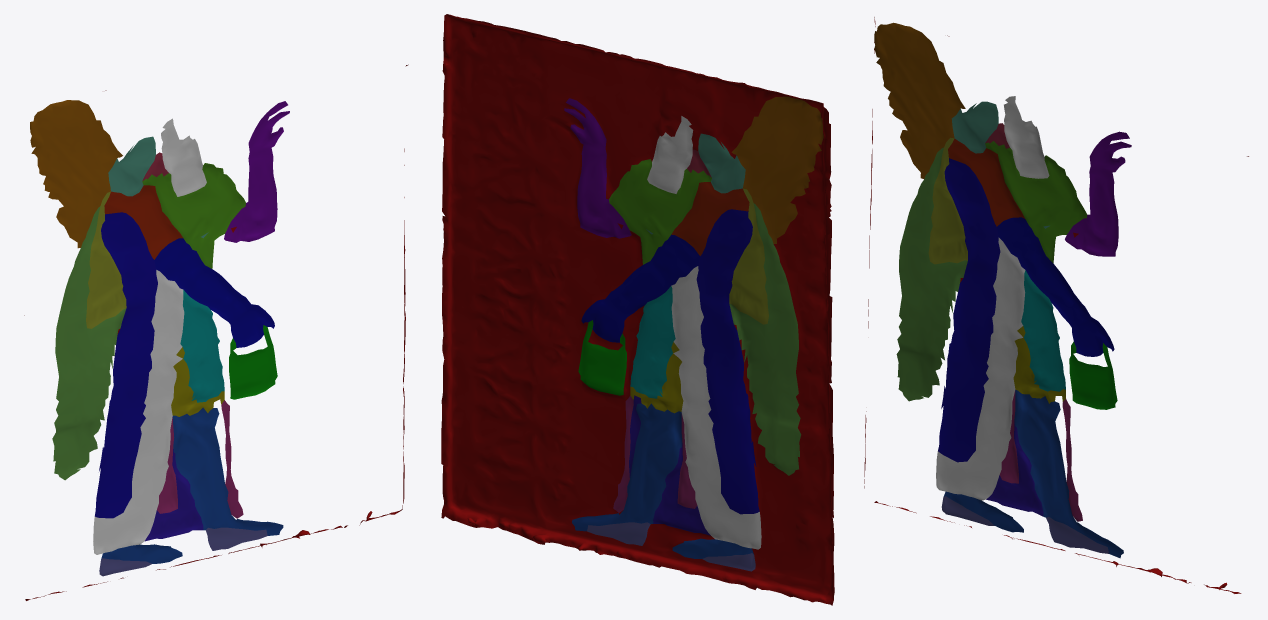
Rendered from colored2.obj.
3 views of the same model, side by side, from view 1: azimuth 30°, elevation 25°; view 2: azimuth 150°, elevation 25°; view 3: azimuth 330°, elevation 25° (orthographic).
Bounding box in the file's own units: 1.4 × 1.73 × 0.0669.
